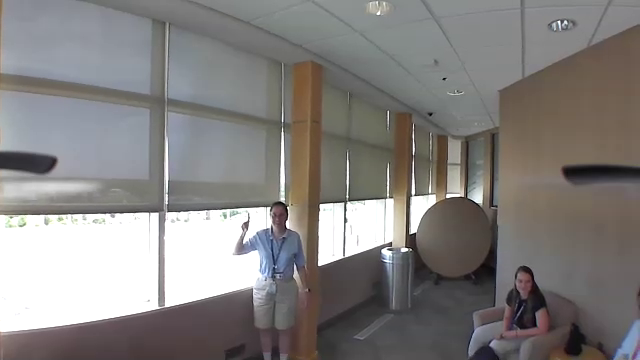up: (237, 210, 252, 235)
